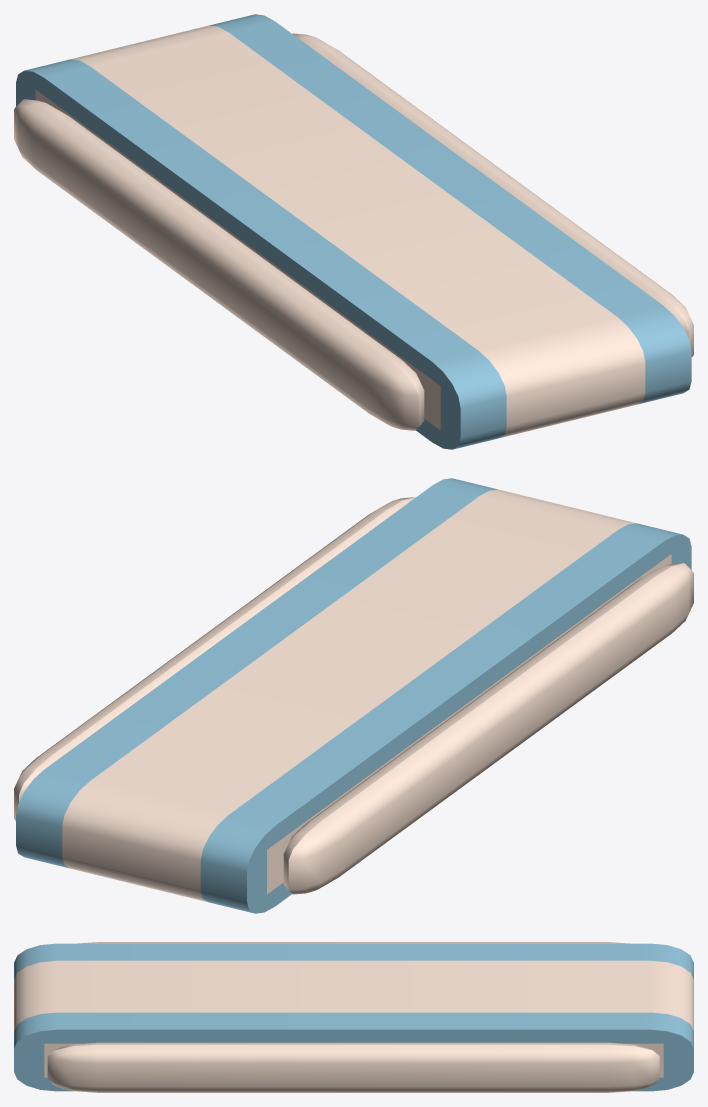
File: Props_Conveyor_Blue_04.fbx
3 views of the same model, one above another, from view 1: azimuth 30°, elevation 25°; view 2: azimuth 150°, elevation 25°; view 3: azimuth 270°, elevation 25° (orthographic). The views are drawn at different scales.
Visible parts, largest first — view 1: Props_Conveyor_Blue_04; view 2: Props_Conveyor_Blue_04; view 3: Props_Conveyor_Blue_04.
Boxes of the visible parts, x1,y1,x2,y2 form: Props_Conveyor_Blue_04: (14, 14, 693, 449); Props_Conveyor_Blue_04: (14, 478, 693, 913); Props_Conveyor_Blue_04: (14, 942, 693, 1092).
Bounding box in the file's own units: 80 × 20 × 200.
